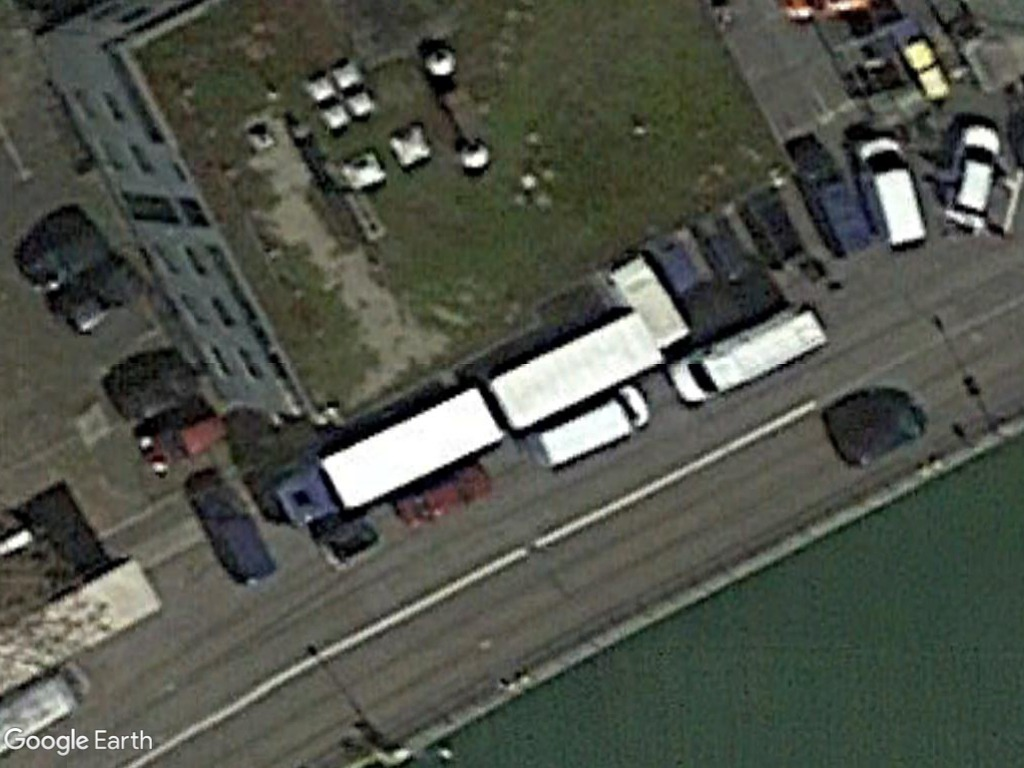car: (938, 121, 1001, 232)
longvehicle: (487, 299, 659, 440)
truck: (271, 381, 504, 531)
van: (664, 301, 830, 413), (529, 384, 651, 474), (851, 132, 935, 253)
